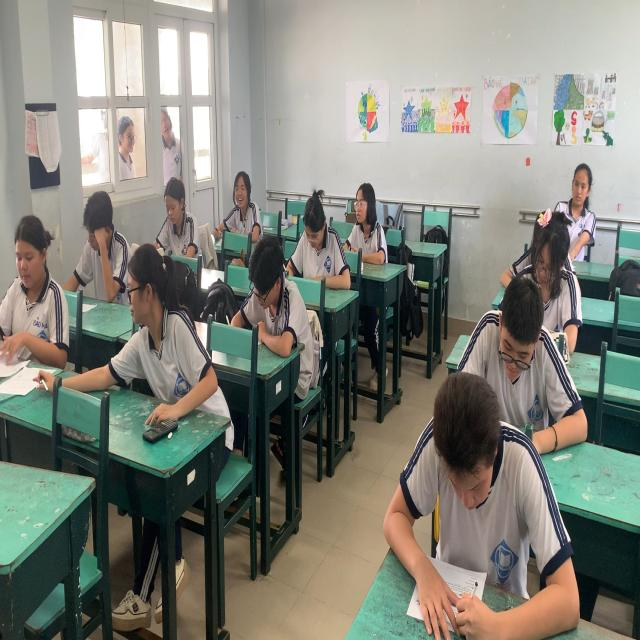cheating: (95, 221, 205, 458), (0, 190, 74, 390)
not_cheating: (359, 404, 566, 572), (460, 247, 580, 450), (224, 200, 323, 399), (51, 153, 143, 335), (508, 174, 584, 350), (274, 145, 360, 298), (324, 138, 409, 286), (134, 151, 220, 294), (207, 139, 288, 279), (555, 108, 596, 286)
